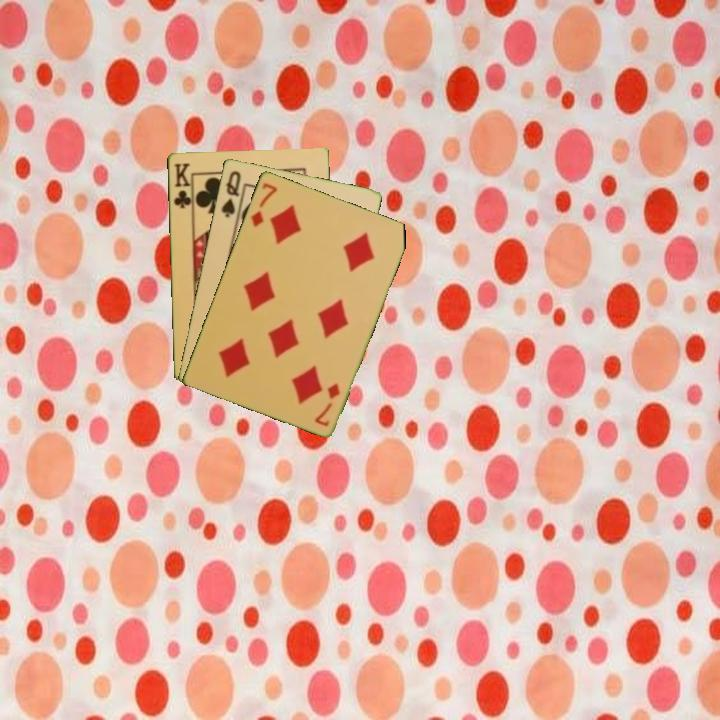7d: (247, 179, 280, 229), (311, 379, 343, 429)
Kc: (170, 159, 194, 213)
Qs: (217, 167, 243, 220)
